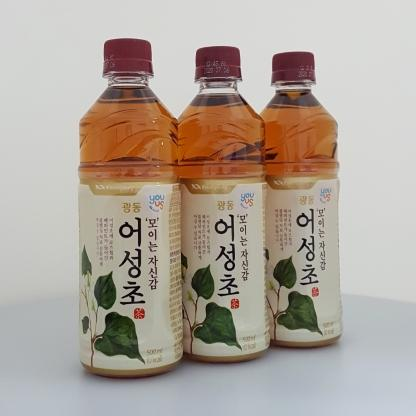--------500ml: (78, 38, 183, 377), (166, 46, 266, 363), (248, 52, 343, 348)
